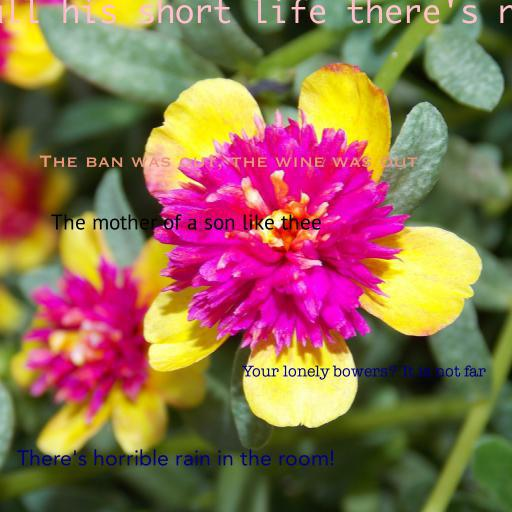American Typewriter: (242, 365, 486, 380)
Avenir: (17, 449, 335, 466)
Copperplate: (38, 155, 418, 171)
Monaco: (0, 0, 512, 30)
PT Sans: (50, 214, 322, 230)
